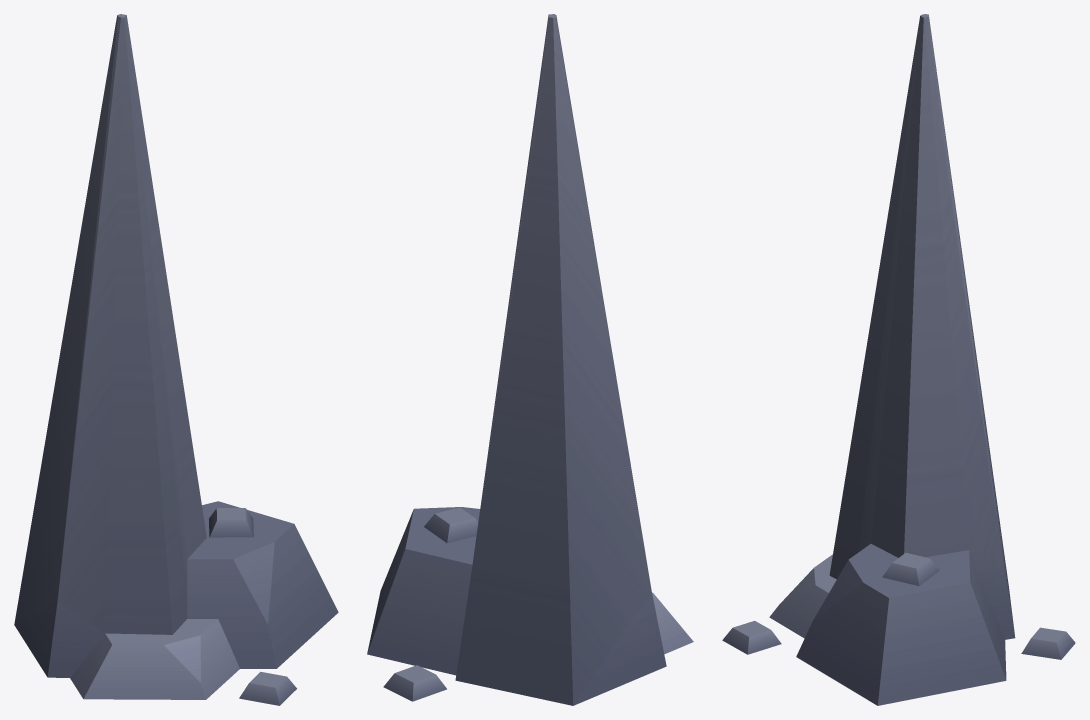
File: pedra pontuda 1 cinza.glb
The picture shows the model from 3 angles, left to right: view 1: azimuth 30°, elevation 25°; view 2: azimuth 150°, elevation 25°; view 3: azimuth 270°, elevation 25°; orthographic projection. The views are drawn at different scales.
Visible parts, largest first — view 1: rock-a; view 2: rock-a; view 3: rock-a.
Part boxes in pixels (<box>): rock-a: <box>14,14,338,705</box>; rock-a: <box>367,14,693,705</box>; rock-a: <box>722,14,1075,705</box>.
Size of the model in its own units: 0.5552 by 1.16 by 0.6216.
Materials: 1 (1 with a texture image).
